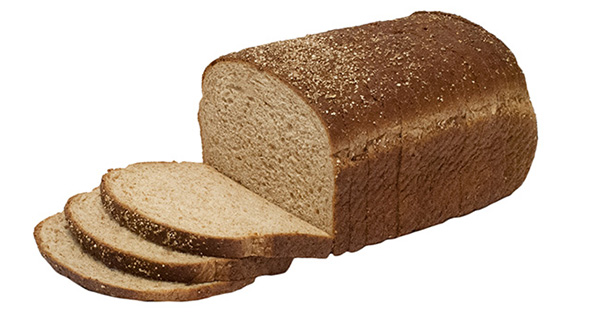slice of bread: (28, 11, 569, 294), (31, 166, 331, 304), (92, 159, 334, 260)
